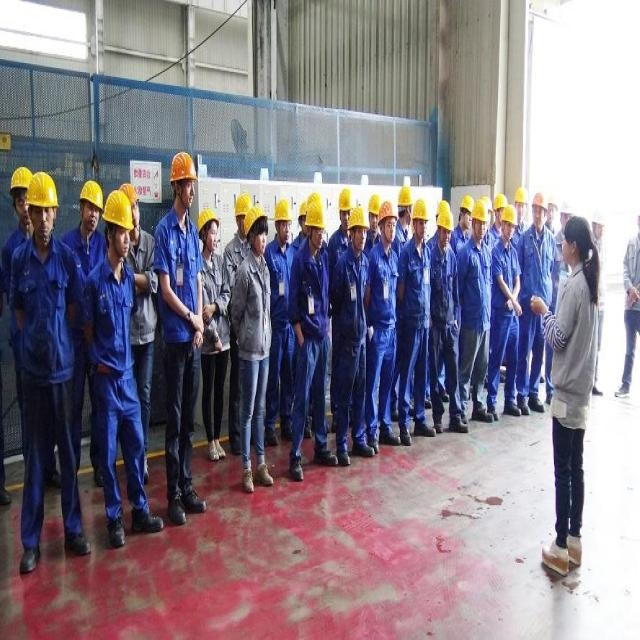Con_Casco: (104, 190, 136, 257), (22, 177, 56, 238), (170, 150, 197, 207)
Sin_Casco_Mascarrilla: (561, 218, 591, 270)
Sin_Chaleco: (158, 214, 199, 343)
